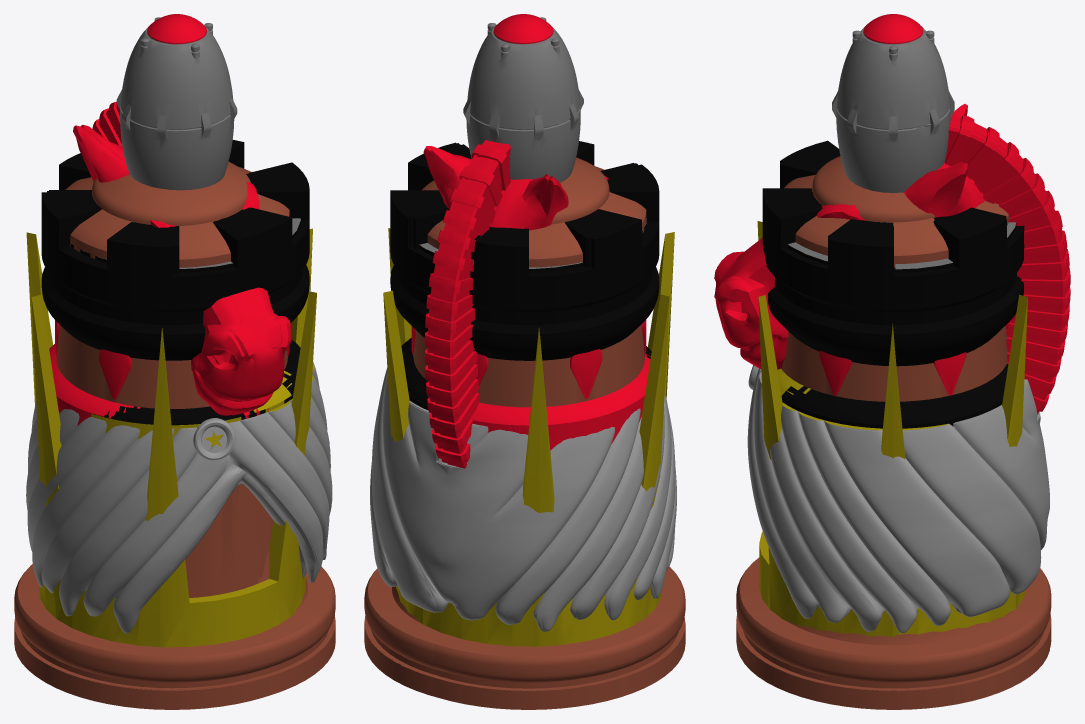
Rendered from figures.glb.
3 views of the same model, side by side, from view 1: azimuth 30°, elevation 25°; view 2: azimuth 150°, elevation 25°; view 3: azimuth 270°, elevation 25° (orthographic).
Visible parts, largest first — view 1: king_game, lada_game.001, kon_game.001, lada_game, kon_game, lada_game.002, slon_game.001, slon_game, peshk_game.001; view 2: lada_game.001, kon_game, lada_game.002, king_game, lada_game, kon_game.001, slon_game.001; view 3: lada_game.002, king_game, kon_game.001, lada_game.001, slon_game.001, peshk_game.001, kon_game, lada_game.
Part boxes in pixels (x1,y1,x2,y2): king_game: [26, 162, 316, 709]; lada_game.001: [26, 14, 311, 631]; kon_game.001: [32, 125, 323, 696]; lada_game: [41, 153, 302, 425]; kon_game: [14, 101, 306, 691]; lada_game.002: [49, 140, 335, 645]; slon_game.001: [70, 362, 335, 694]; slon_game: [45, 413, 264, 709]; peshk_game.001: [185, 474, 335, 685]; lada_game.001: [392, 14, 676, 631]; kon_game: [380, 141, 684, 709]; lada_game.002: [364, 141, 655, 696]; king_game: [383, 157, 685, 646]; lada_game: [413, 142, 659, 360]; kon_game.001: [394, 140, 656, 619]; slon_game.001: [365, 401, 655, 673]; lada_game.002: [749, 144, 1050, 709]; king_game: [736, 156, 1027, 644]; kon_game.001: [714, 107, 1068, 649]; lada_game.001: [759, 14, 1027, 577]; slon_game.001: [737, 365, 1047, 690]; peshk_game.001: [741, 590, 1048, 697]; kon_game: [716, 104, 1070, 664]; lada_game: [762, 140, 1006, 238].
Bounding box in the file's own units: 0.0942 × 0.1982 × 0.1024.
